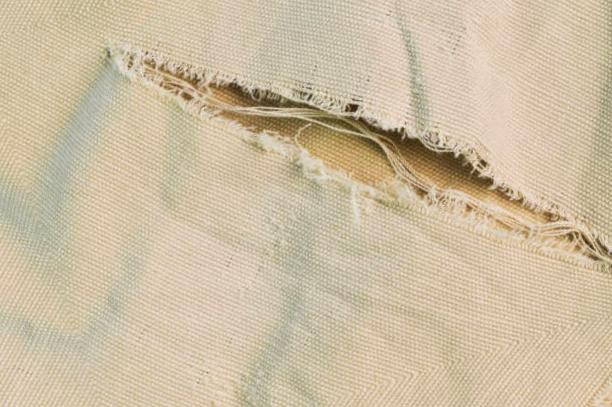hole: (98, 29, 612, 283)
